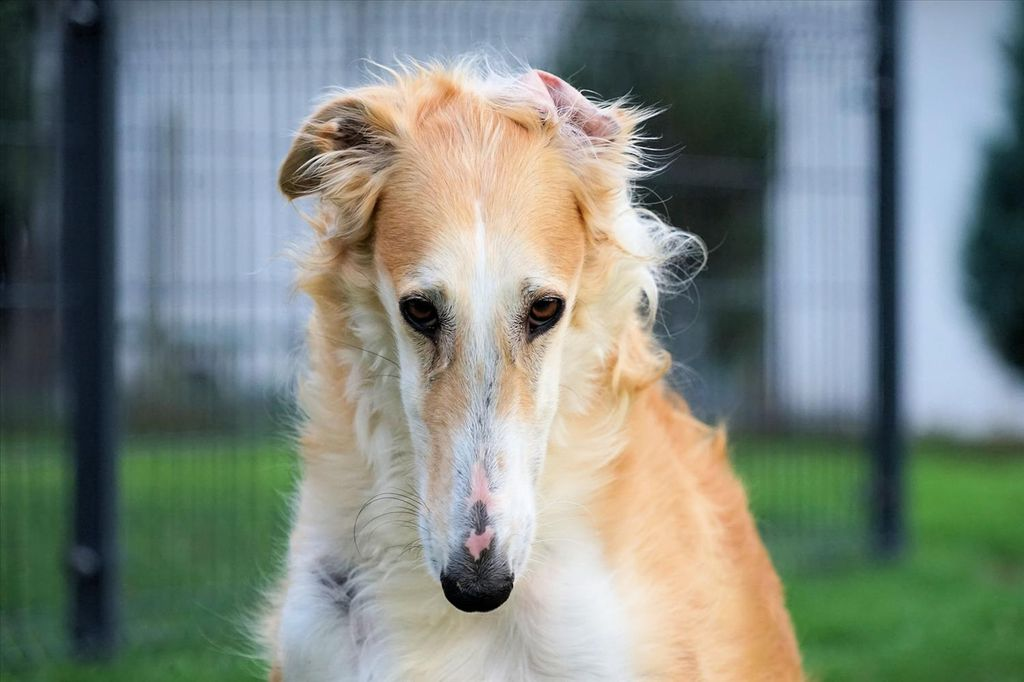borzoi: (270, 57, 810, 682)
